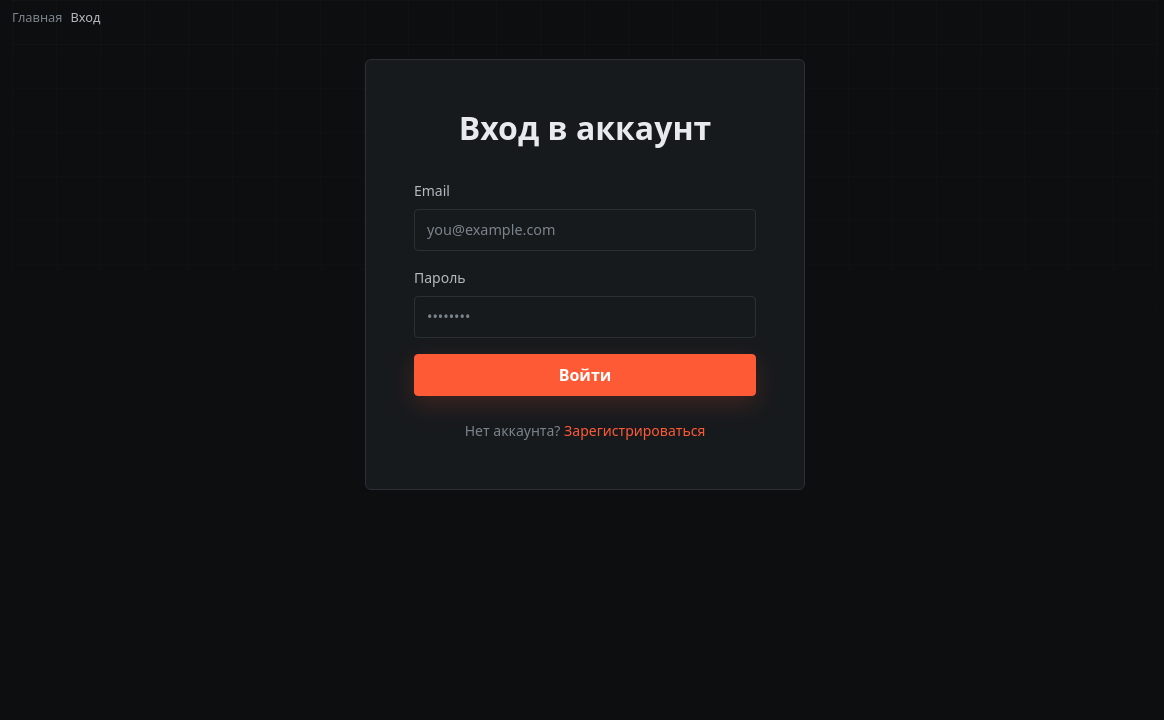
LoginPage › shows API error for wrong credentials
The width and height of the screenshot is (1164, 720).
In the field labelled "Email": [585, 230] box [414,209,756,251], type "buyer@example.com"
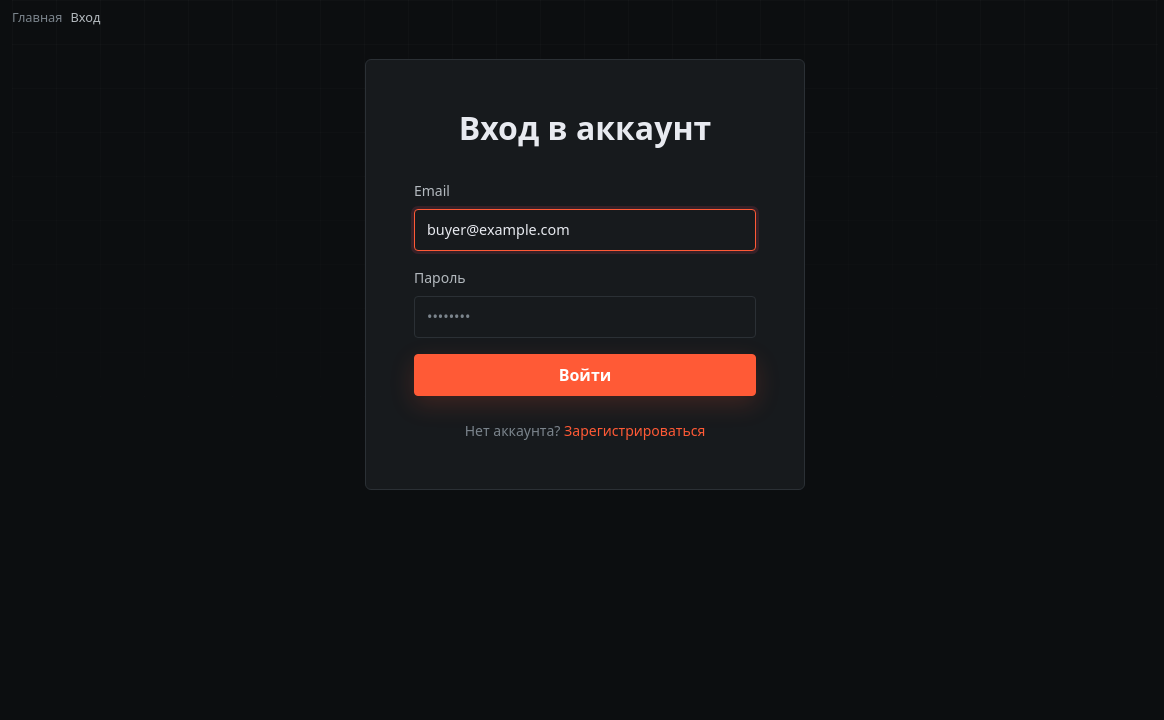
In the password field labelled "Пароль": [585, 317] box [414,296,756,338], type "wrong"
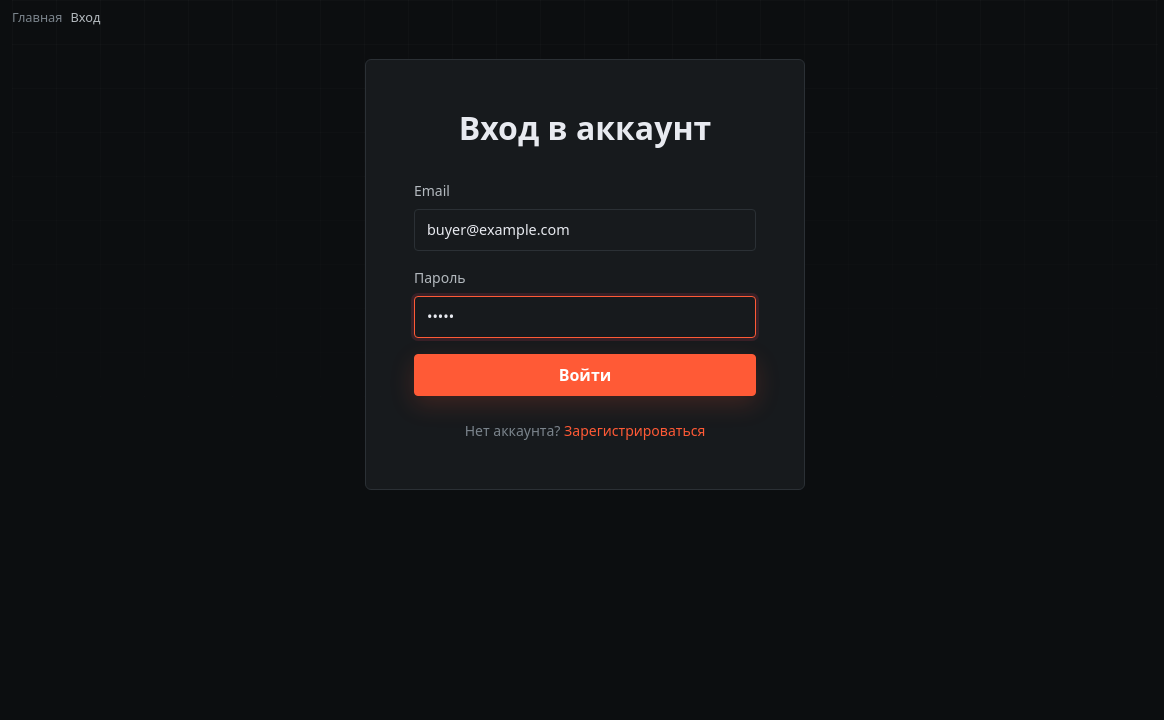
Click the button: [585, 375] box [414,354,756,396]
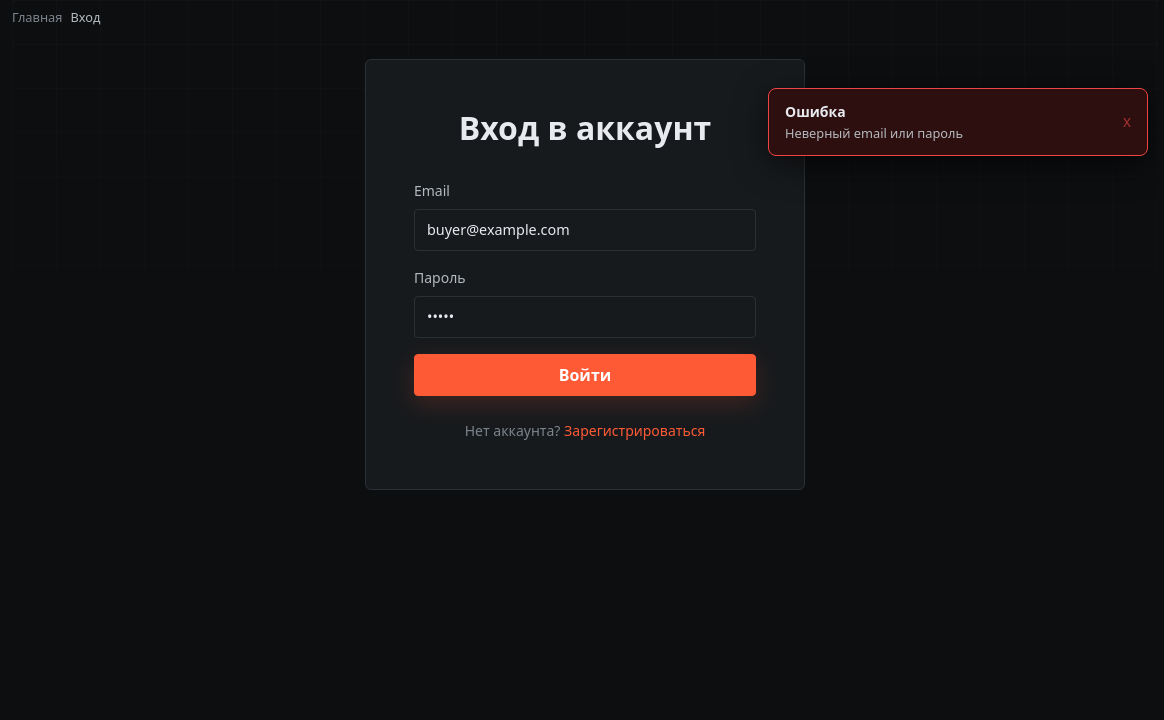
Expected: the text "Неверный email или пароль" is shown, [785,124,963,142]
